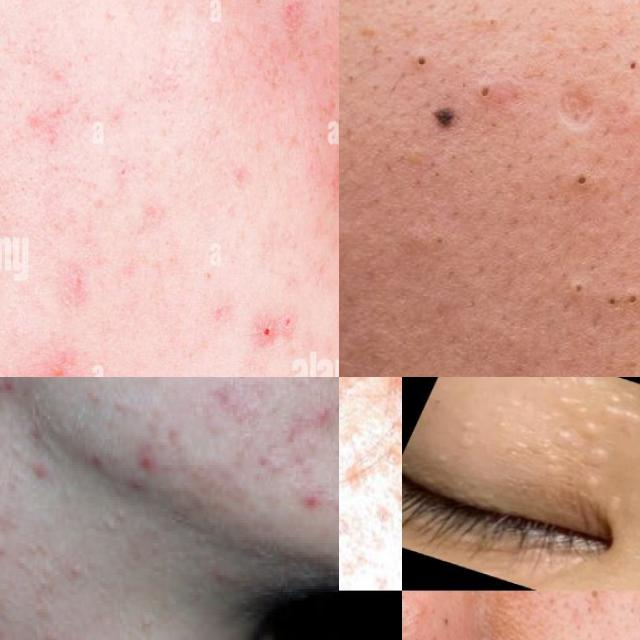comedone: (567, 590, 615, 634), (423, 98, 462, 143), (374, 430, 402, 487), (370, 495, 402, 538), (409, 590, 466, 602), (339, 491, 351, 545), (339, 572, 373, 590), (574, 172, 594, 192)
syringoma: (503, 403, 592, 472), (534, 377, 640, 433), (579, 438, 617, 474), (572, 413, 613, 445)
